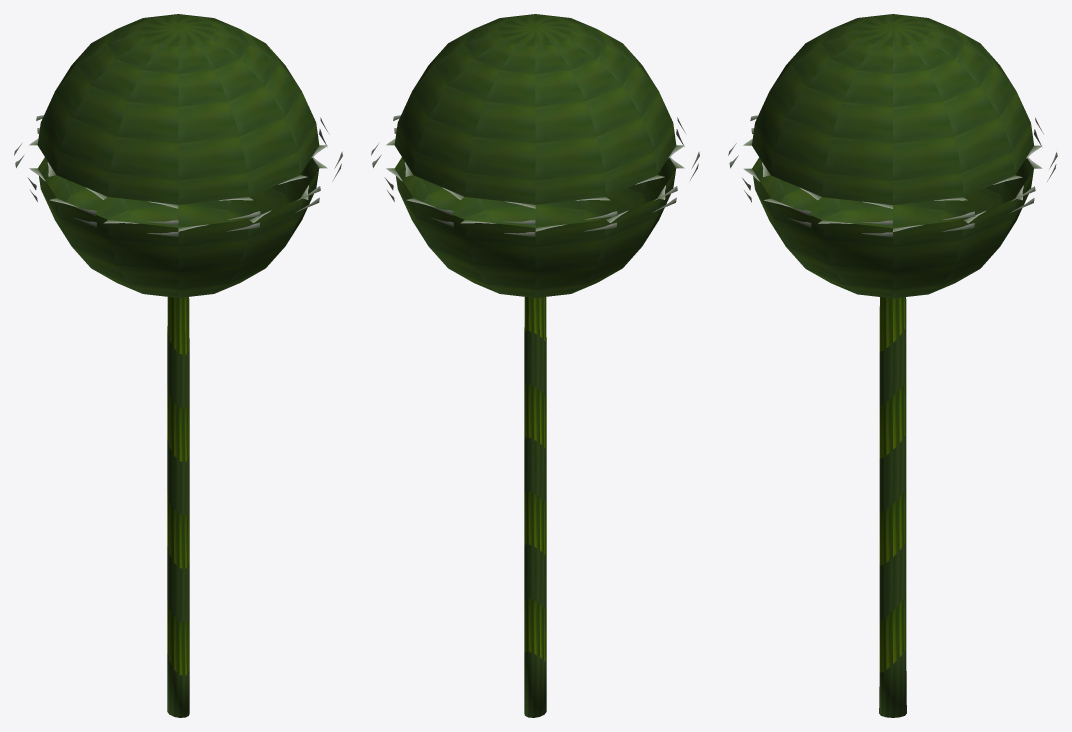
The model's file is OBS0110256.fbx.
3 views of the same model, side by side, from view 1: azimuth 30°, elevation 25°; view 2: azimuth 150°, elevation 25°; view 3: azimuth 270°, elevation 25° (orthographic).
Visible parts, largest first — view 1: smOBS0110256; view 2: smOBS0110256; view 3: smOBS0110256.
Boxes of the visible parts, left/top/right/bottom form: smOBS0110256: left=14, top=14, right=342, bottom=717; smOBS0110256: left=371, top=14, right=699, bottom=717; smOBS0110256: left=728, top=14, right=1057, bottom=717.
Size of the model in its own units: 72.81 by 168 by 72.81.
